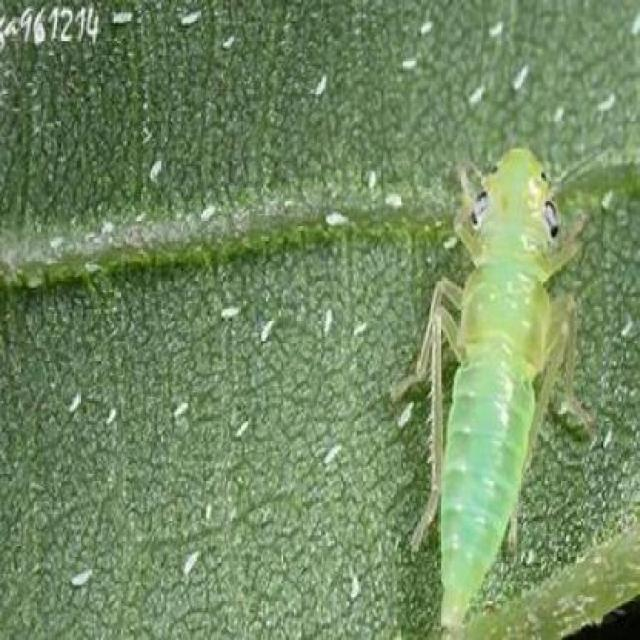green-leafhopper: (409, 150, 582, 624)
